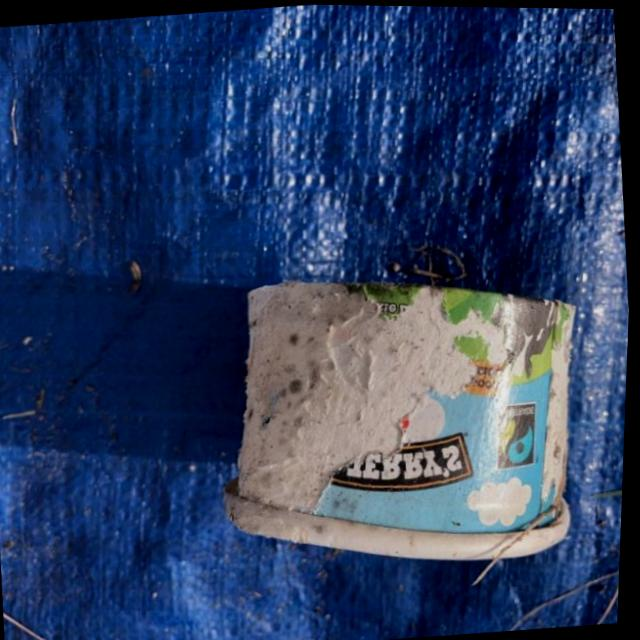Paper: (202, 249, 605, 585)
